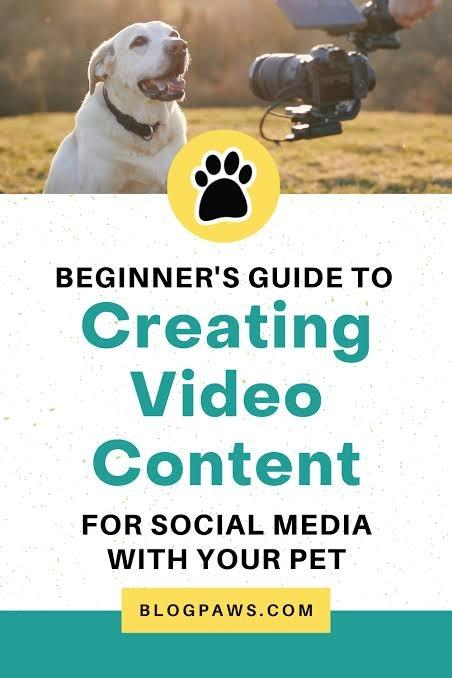adult_dog: (41, 20, 192, 193)
